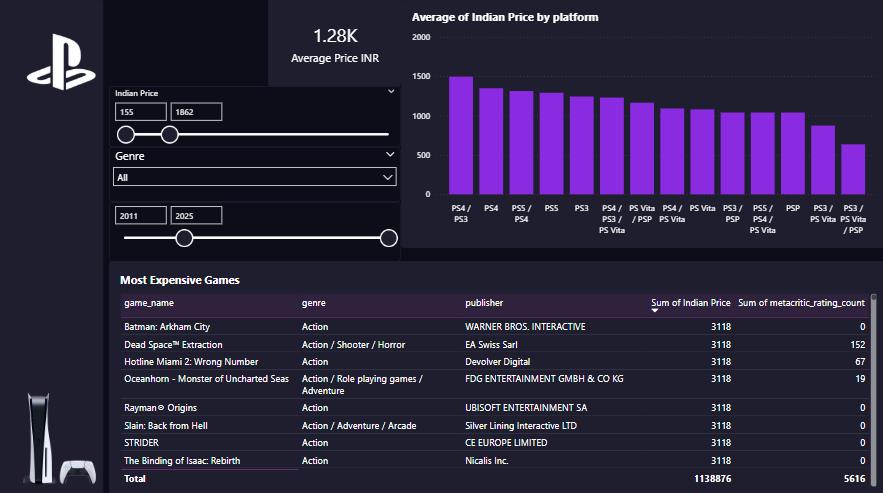

Layout of this report page (visuals, bound fields, positions):
{"tool":"powerbi","page":{"name":"Price","canvas":[1280,720],"ordinal":1},"visuals":[{"type":"columnChart","fields":{"Category":["game_details.platform"],"Y":["Avg(game_details.Indian Price)"]},"box":[578.8,0,701.2,359.7],"z":0},{"type":"tableEx","fields":{"Values":["game_details.game_name","game_details.genre","game_details.publisher","Sum(game_details.Indian Price)","Sum(game_details.metacritic_rating_count)"]},"box":[158.7,379.3,1121.3,340],"z":1000},{"type":"slicer","fields":{"Values":["game_details.Release_Year"]},"box":[158.7,293.2,420.1,86.1],"z":2000},{"type":"slicer","fields":{"Values":["game_details.genre"]},"box":[158.7,214.6,420.1,78.6],"z":3000},{"type":"slicer","fields":{"Values":["game_details.Indian Price"]},"box":[158.7,126.9,420.1,87.7],"z":4000},{"type":"card","fields":{"Values":["game_details.Average Price INR"]},"box":[386.9,0,191.9,126.9],"z":4001},{"type":"shape","box":[0,0,149.6,719.3],"z":4002}]}

Visuals, with their boxes in screenshot pixels (x1, y1, x2, y2), scaled from the page's 1280x720 canvas onto the 883x493 screenshot:
columnChart - game_details.platform x Avg(game_details.Indian Price): <region>399, 0, 882, 246</region>
tableEx - game_details.game_name x game_details.genre: <region>109, 260, 882, 492</region>
slicer - game_details.Release_Year: <region>109, 201, 399, 260</region>
slicer - game_details.genre: <region>109, 147, 399, 201</region>
slicer - game_details.Indian Price: <region>109, 87, 399, 147</region>
card - game_details.Average Price INR: <region>267, 0, 399, 87</region>
shape: <region>0, 0, 103, 492</region>
